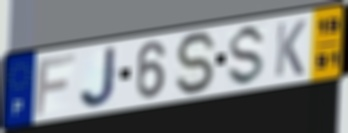6: (136, 39, 169, 101)
F: (33, 51, 78, 118)
J: (78, 44, 120, 110)
K: (273, 18, 308, 80)
S: (174, 30, 220, 97), (225, 23, 269, 88)
